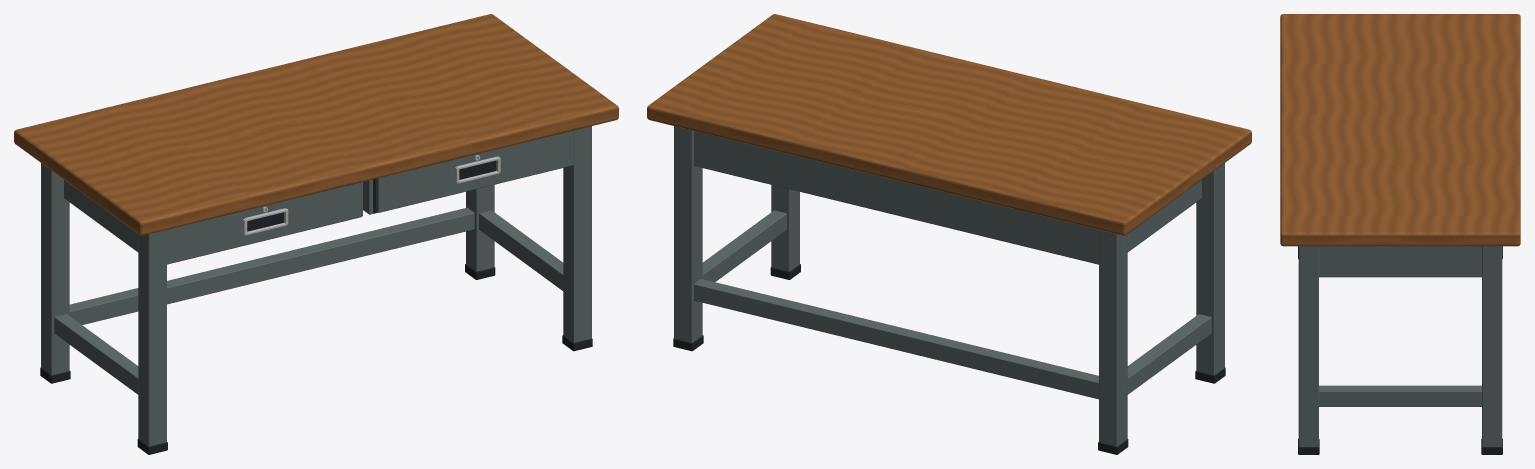
File: lod0_source.glb
3 views of the same model, side by side, from view 1: azimuth 30°, elevation 25°; view 2: azimuth 150°, elevation 25°; view 3: azimuth 270°, elevation 25° (orthographic). The views are drawn at different scales.
Parts seen in each view (by area): view 1: Thick wood top, Rear low stretcher, Drawer front.001, Drawer front, Square steel leg, Square steel leg.002, Square steel leg.001, Lower side stretcher, Lower side stretcher.001, Square steel leg.003, Closed drawer cabinet; view 2: Thick wood top, Rear apron, Rear low stretcher, Square steel leg.001, Square steel leg.003, Square steel leg, Lower side stretcher, Lower side stretcher.001, Square steel leg.002, Closed drawer cabinet; view 3: Thick wood top, Closed drawer cabinet.001, Square steel leg.002, Square steel leg.003, Lower side stretcher.001.
Part boxes in pixels (x1,y1,x2,y2): Thick wood top: (14, 14, 618, 235); Rear low stretcher: (69, 207, 474, 324); Drawer front.001: (376, 130, 573, 212); Drawer front: (167, 182, 361, 264); Square steel leg: (138, 230, 166, 446); Square steel leg.002: (563, 126, 591, 342); Square steel leg.001: (41, 163, 69, 375); Lower side stretcher: (54, 314, 138, 394); Lower side stretcher.001: (479, 210, 563, 290); Square steel leg.003: (466, 184, 494, 271); Closed drawer cabinet: (64, 180, 362, 252); Thick wood top: (647, 14, 1251, 235); Rear apron: (694, 131, 1098, 264); Rear low stretcher: (694, 279, 1098, 399); Square steel leg.001: (1099, 230, 1127, 446); Square steel leg.003: (674, 126, 702, 342); Square steel leg: (1196, 163, 1224, 375); Lower side stretcher: (1127, 314, 1211, 394); Lower side stretcher.001: (702, 210, 786, 281); Square steel leg.002: (771, 185, 799, 271); Closed drawer cabinet: (1127, 180, 1201, 252); Thick wood top: (1280, 14, 1520, 246); Closed drawer cabinet.001: (1319, 246, 1481, 277); Square steel leg.002: (1298, 246, 1318, 446); Square steel leg.003: (1482, 246, 1502, 446); Lower side stretcher.001: (1319, 385, 1481, 406).
Size of the model in its own units: 1.65 by 0.802 by 0.76.
4 materials, 1 textured.
